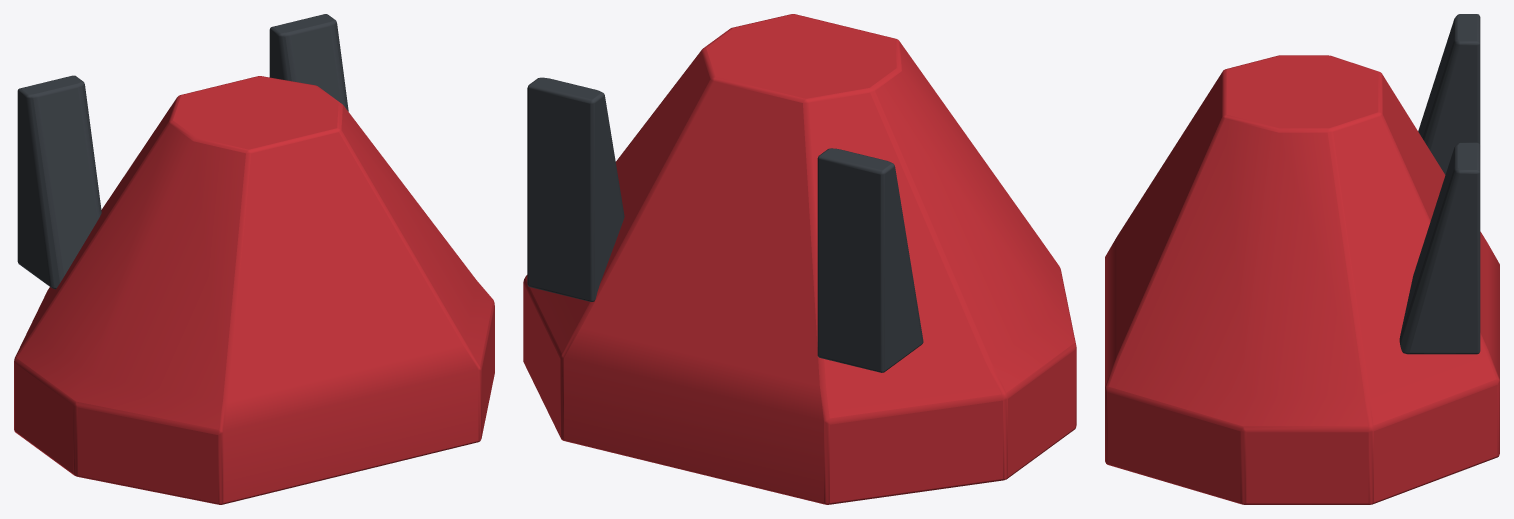
File: AnimalHeadFront_Set07_Salvo.fbx
3 renders of one model, left to right at view 1: azimuth 30°, elevation 25°; view 2: azimuth 150°, elevation 25°; view 3: azimuth 270°, elevation 25°, orthographic. The views are drawn at different scales.
Parts seen in each view (by area): view 1: AnimalHeadFront_Set07_Salvo; view 2: AnimalHeadFront_Set07_Salvo; view 3: AnimalHeadFront_Set07_Salvo.
Part boxes in pixels (x1,y1,x2,y2): AnimalHeadFront_Set07_Salvo: [14, 14, 494, 504]; AnimalHeadFront_Set07_Salvo: [523, 14, 1076, 504]; AnimalHeadFront_Set07_Salvo: [1105, 14, 1499, 504].
Bounding box in the file's own units: 0.36 × 0.24 × 0.28.
